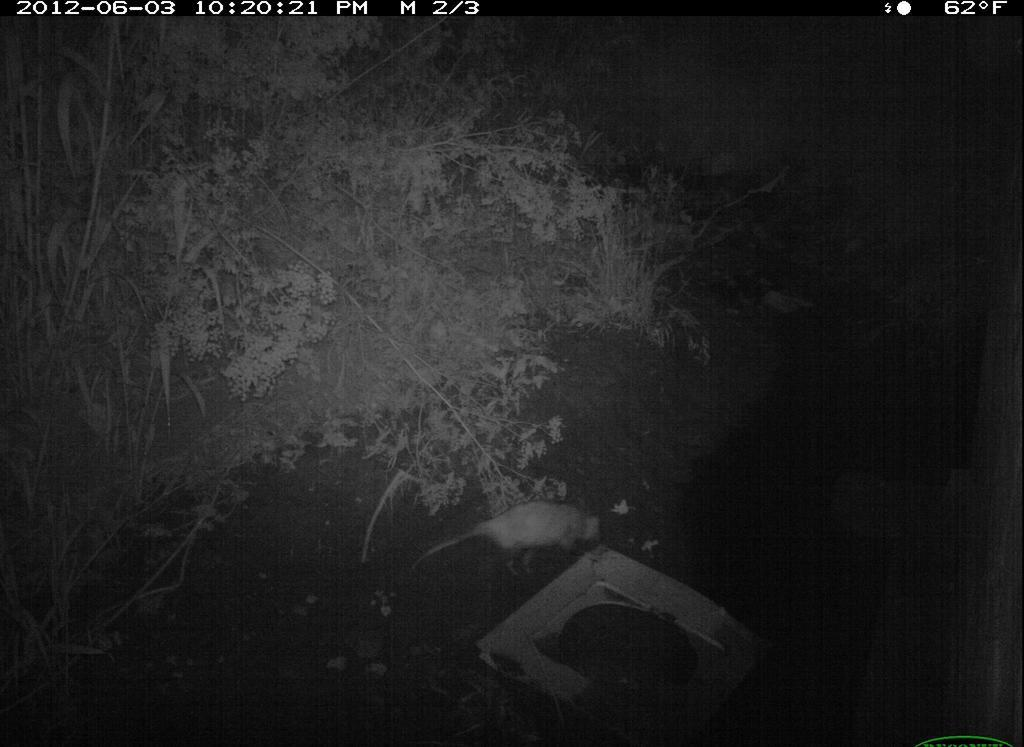opossum: (420, 481, 621, 577)
